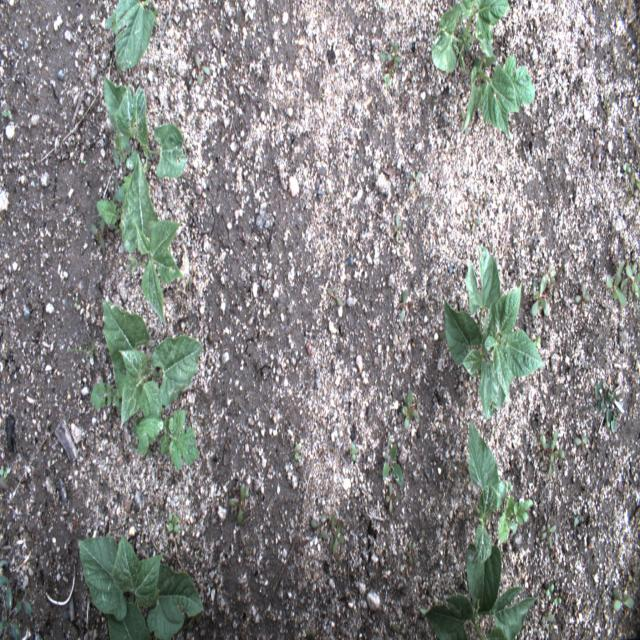crop: (442, 245, 546, 422), (428, 0, 538, 139), (77, 532, 204, 640), (101, 300, 203, 429), (421, 548, 538, 640), (122, 158, 183, 325), (102, 74, 188, 181), (466, 416, 514, 562), (116, 0, 154, 71)
weed: (132, 408, 200, 472), (0, 560, 32, 640), (497, 495, 532, 543), (90, 366, 125, 410), (529, 264, 557, 317), (594, 380, 622, 433), (540, 428, 564, 480), (227, 480, 250, 526), (382, 442, 404, 490), (96, 199, 122, 233), (64, 328, 94, 357), (402, 388, 421, 433), (620, 264, 639, 309), (379, 41, 403, 74), (605, 272, 627, 308), (90, 216, 106, 260), (328, 512, 344, 555), (194, 52, 210, 87), (540, 522, 558, 553), (310, 512, 329, 541), (612, 589, 634, 613), (573, 282, 590, 311), (325, 286, 345, 308), (398, 286, 409, 324), (392, 211, 403, 244), (386, 480, 396, 516), (407, 168, 421, 193), (573, 434, 588, 454), (106, 8, 116, 35), (166, 513, 178, 534), (348, 441, 360, 462), (541, 614, 553, 631), (544, 583, 556, 600), (630, 174, 640, 192), (382, 74, 391, 90), (0, 466, 11, 478), (551, 595, 562, 607), (622, 165, 632, 178), (294, 442, 300, 462), (1, 108, 12, 118)
